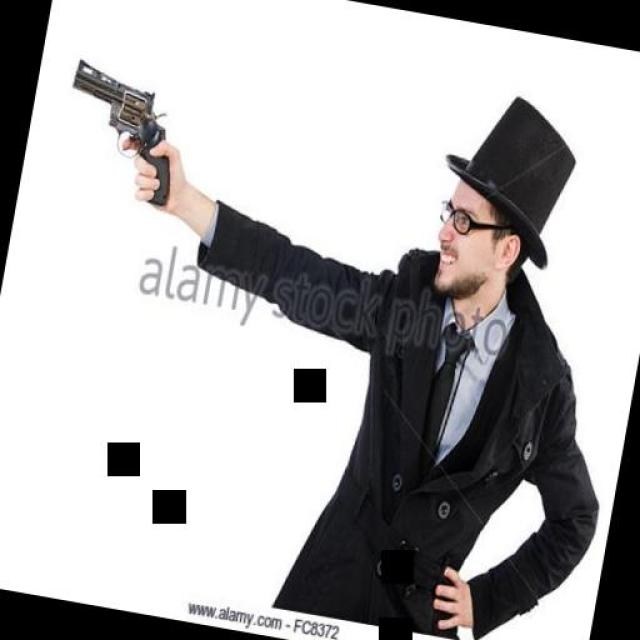gun: (51, 50, 190, 206)
